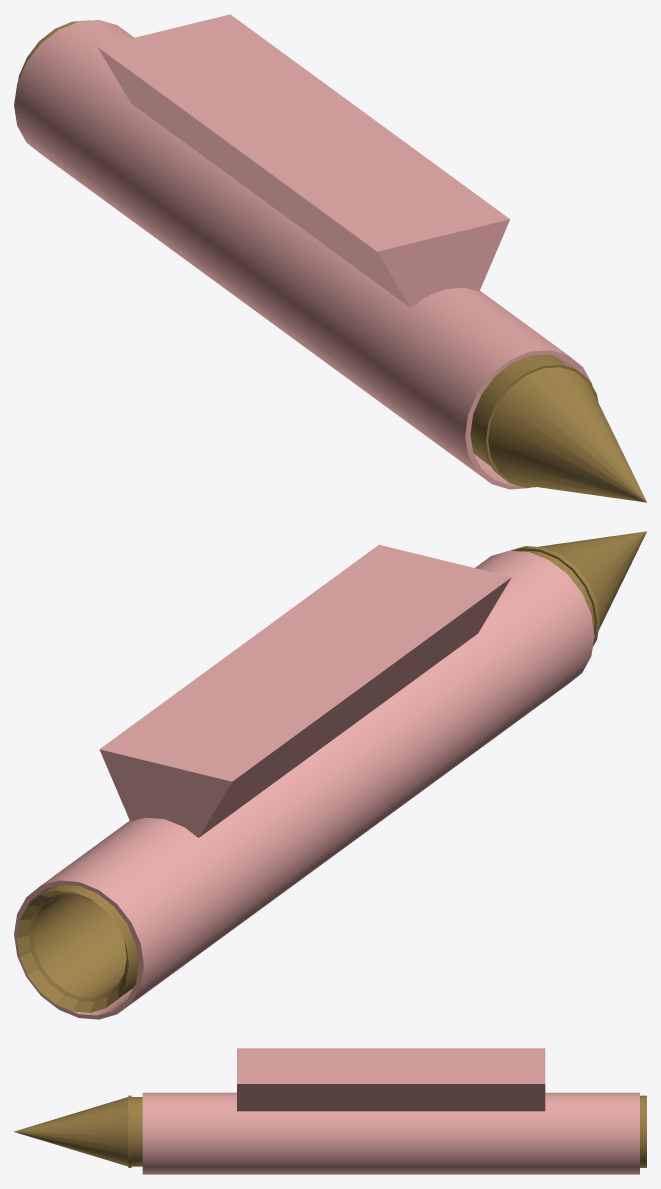
Rendered from Missle.fbx.
3 renders of one model, top to bottom at view 1: azimuth 30°, elevation 25°; view 2: azimuth 150°, elevation 25°; view 3: azimuth 270°, elevation 25°, orthographic. The views are drawn at different scales.
Visible parts, largest first — view 1: Left_MissleHolder, Left_Missle; view 2: Left_MissleHolder, Left_Missle; view 3: Left_MissleHolder, Left_Missle.
Part boxes in pixels (<box>): Left_MissleHolder: <box>14,14,592,489</box>; Left_Missle: <box>18,20,646,502</box>; Left_MissleHolder: <box>14,544,594,1019</box>; Left_Missle: <box>17,531,646,1012</box>; Left_MissleHolder: <box>142,1048,639,1174</box>; Left_Missle: <box>14,1095,646,1167</box>.
Size of the model in its own units: 2.04 by 2.79 by 15.29.
